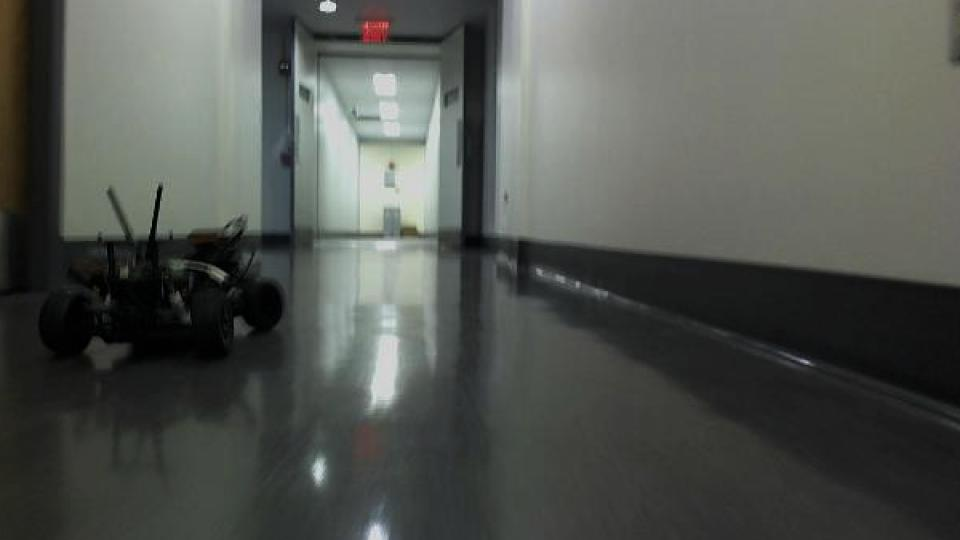car: (35, 180, 290, 363)
